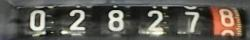digits: (107, 9, 124, 32), (68, 9, 86, 30), (29, 9, 46, 31), (146, 9, 163, 31), (184, 11, 199, 32), (218, 8, 234, 26)
